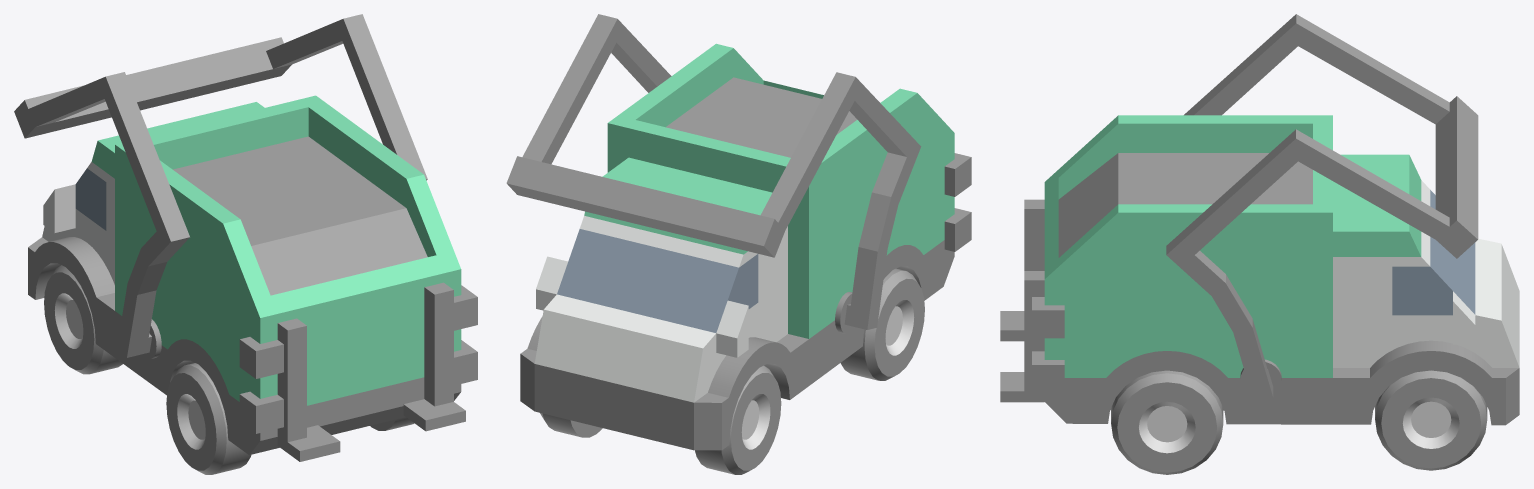
The model's file is carGarbage.gltf.
3 renders of one model, left to right at view 1: azimuth 30°, elevation 25°; view 2: azimuth 150°, elevation 25°; view 3: azimuth 270°, elevation 25°, orthographic.
Visible parts, largest first — view 1: body 3, arm, bar 1, bar, wheelBackLeft 3, wheelFrontLeft 3; view 2: body 3, arm, wheelBackLeft 3, wheelFrontLeft 3, bar 1, wheelFrontRight 3; view 3: body 3, arm, wheelBackRight 3, wheelFrontRight 3, bar, bar 1.
Part boxes in pixels (<box>): body 3: <box>28,95,461,455</box>; arm: <box>14,14,427,358</box>; bar 1: <box>239,318,340,461</box>; bar: <box>403,282,477,431</box>; wheelBackLeft 3: <box>166,363,251,474</box>; wheelFrontLeft 3: <box>44,265,122,374</box>; body 3: <box>520,43,954,450</box>; arm: <box>506,14,921,333</box>; wheelBackLeft 3: <box>840,268,924,380</box>; wheelFrontLeft 3: <box>695,365,781,474</box>; bar 1: <box>944,153,971,251</box>; wheelFrontRight 3: <box>540,413,602,437</box>; body 3: <box>1044,115,1519,425</box>; arm: <box>1166,14,1478,402</box>; wheelBackRight 3: <box>1111,370,1223,474</box>; wheelFrontRight 3: <box>1375,370,1487,470</box>; bar: <box>1000,271,1064,402</box>; bar 1: <box>1000,199,1044,341</box>.
Size of the model in its own units: 0.735 by 0.9681 by 1.29.
